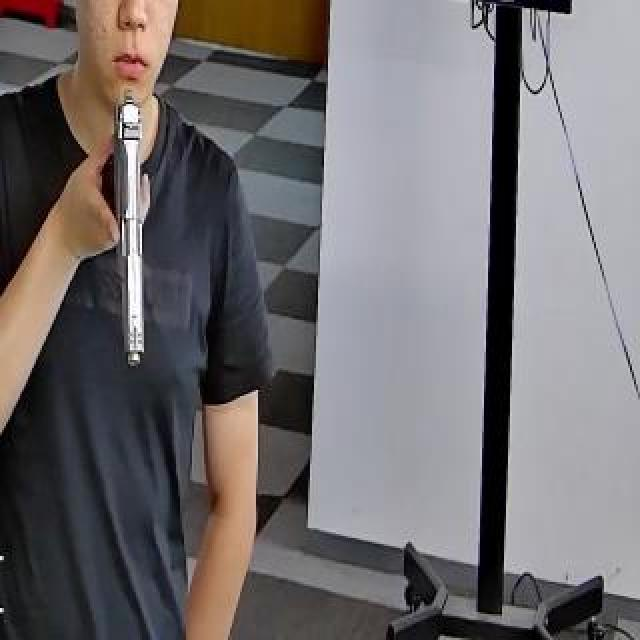Guns: (73, 74, 198, 384)
